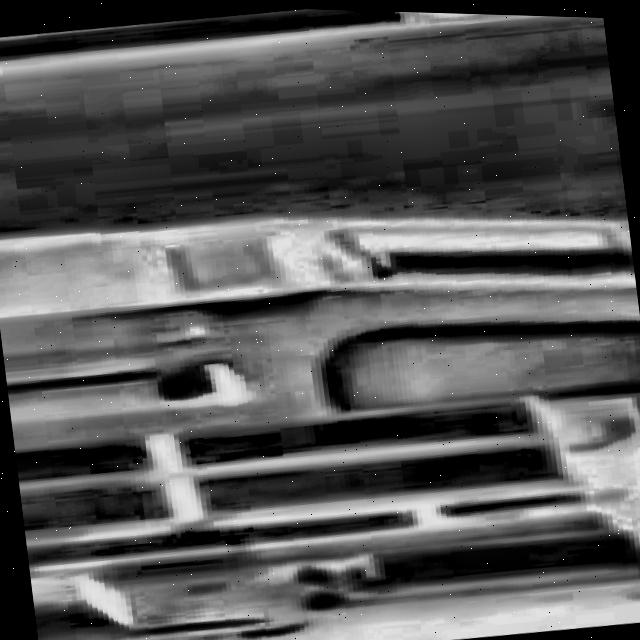Kereta: (0, 0, 628, 302)
Lokomotif: (0, 145, 640, 640)
